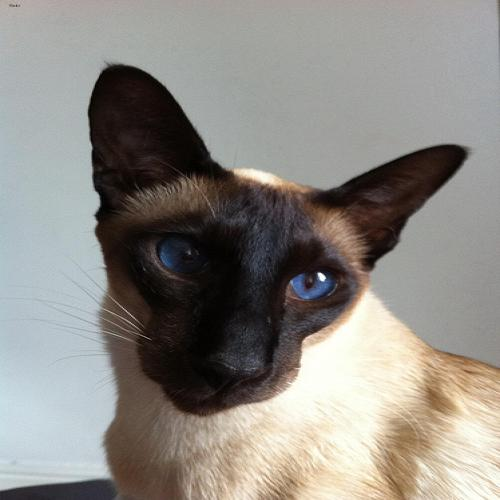siamese: (80, 57, 480, 428)
